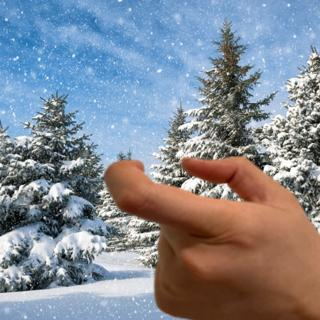HATE: (98, 147, 320, 320)
